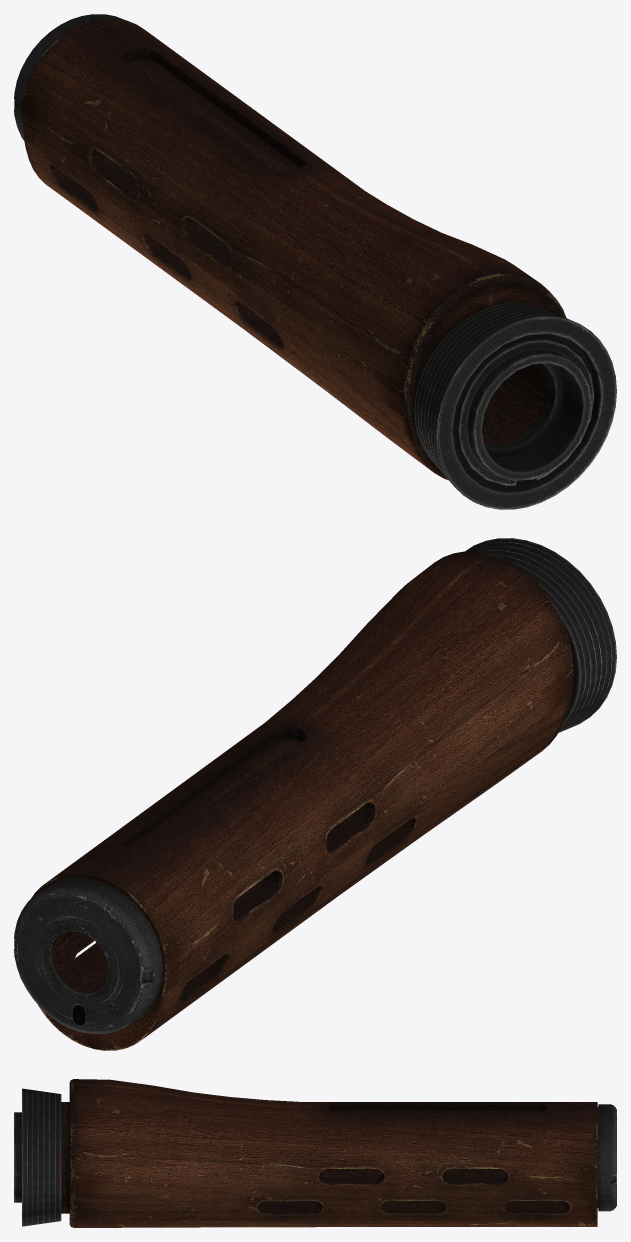
3 renders of one model, top to bottom at view 1: azimuth 30°, elevation 25°; view 2: azimuth 150°, elevation 25°; view 3: azimuth 270°, elevation 25°, orthographic. The views are drawn at different scales.
Parts seen in each view (by area): view 1: TW_5c0e2f5cd174af02a012cfc9_PZ_Import; view 2: TW_5c0e2f5cd174af02a012cfc9_PZ_Import; view 3: TW_5c0e2f5cd174af02a012cfc9_PZ_Import.
Part boxes in pixels (x1,y1,x2,y2): TW_5c0e2f5cd174af02a012cfc9_PZ_Import: (14,14,616,509); TW_5c0e2f5cd174af02a012cfc9_PZ_Import: (14,538,616,1050); TW_5c0e2f5cd174af02a012cfc9_PZ_Import: (14,1079,616,1227).
Size of the model in its own units: 0.031 by 0.1353 by 0.034.
1 material, 1 textured.
